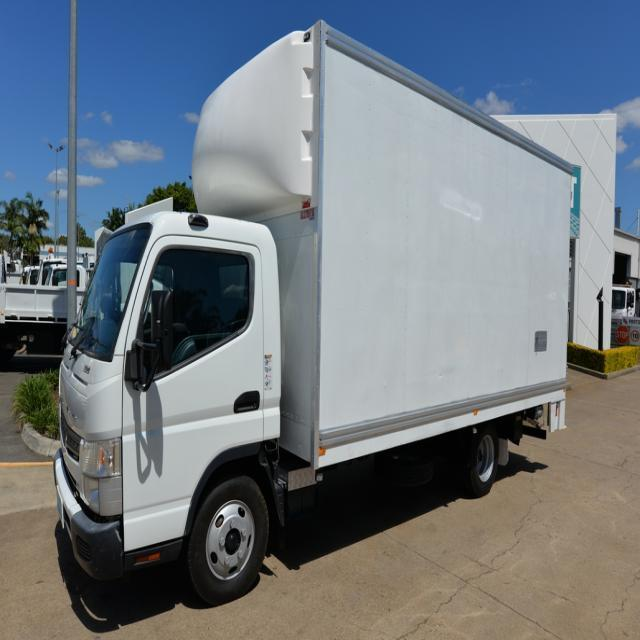truck: (53, 17, 575, 601)
